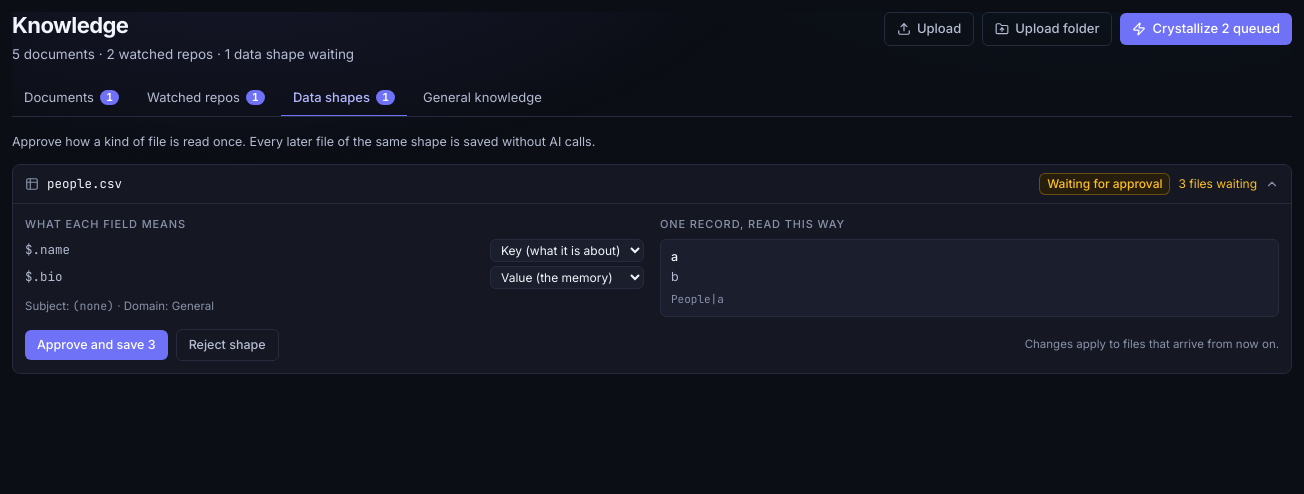
Test: Knowledge (Refine PR 5) › counts what waits in the header and the tabs, and deep-links the tab
Check: the text "5 documents · 2 watched repos · 1 data shape waiting" is shown, box [12,44,354,64]
Check: the text named "1 waiting" is shown, box [100,90,119,105]
Click the tab "Documents 1" at (72, 99), box [12,80,131,117]
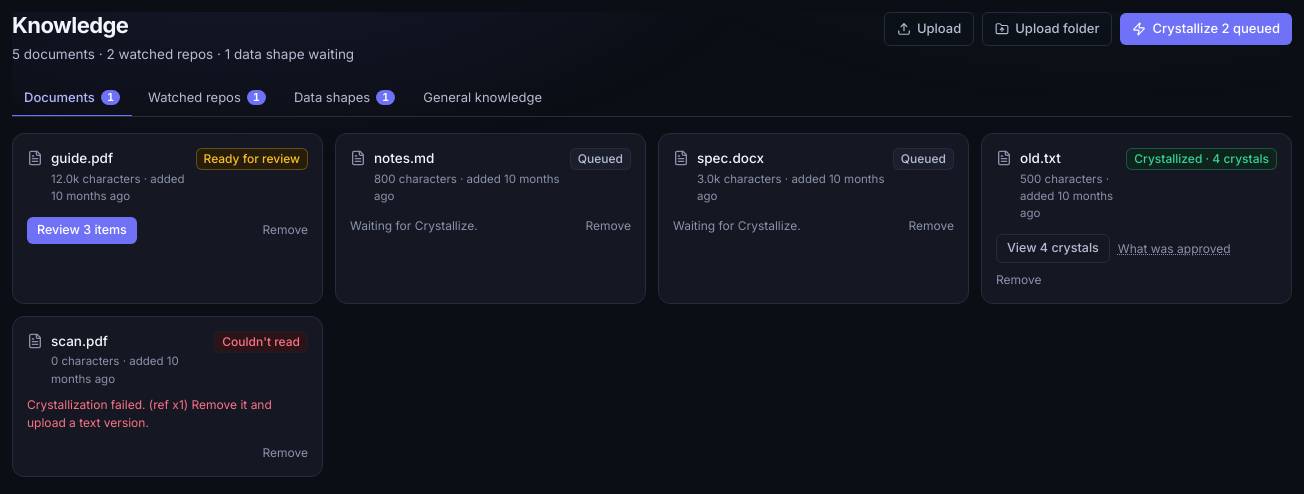
Check: the heading "guide.pdf" is shown, box [51,150,113,166]
